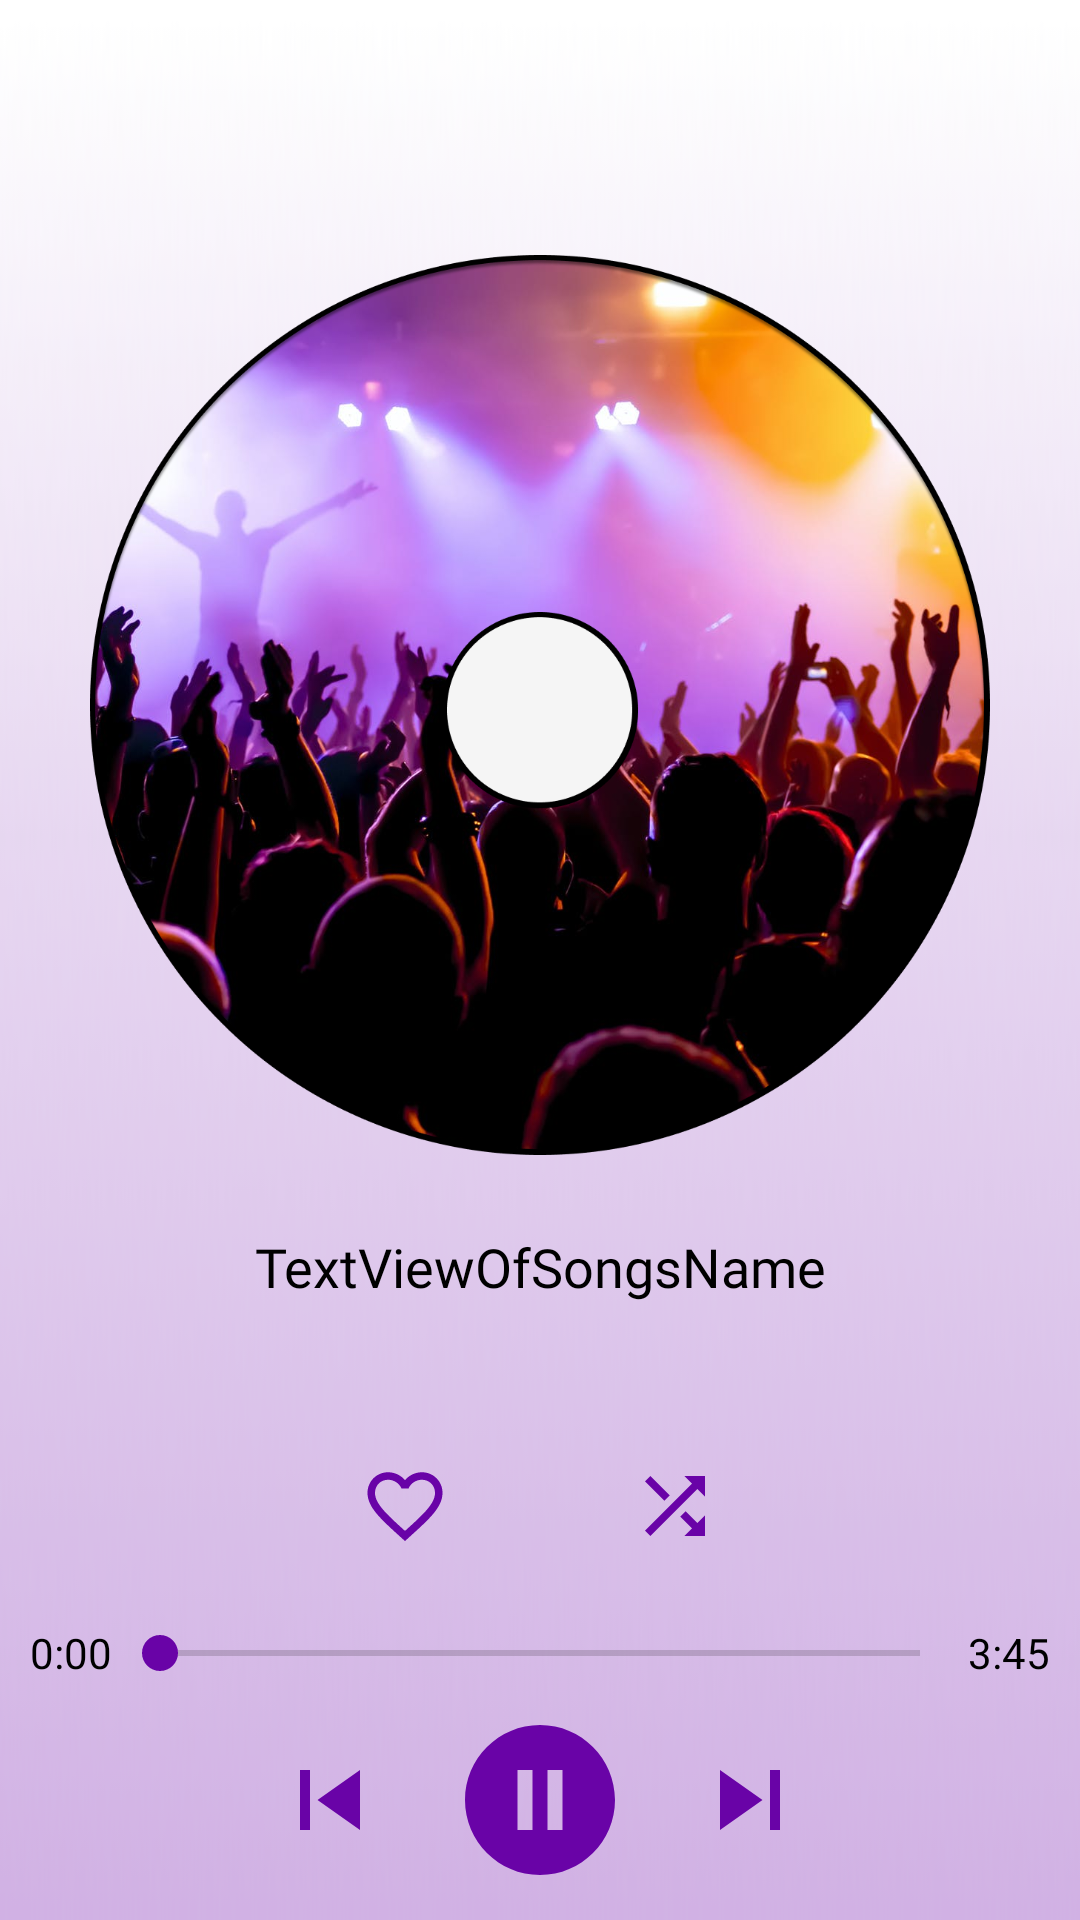

Named icons in this screenshot (1080 × 1920) and their centers, point (x, y):
favorite border: point (405, 1506)
pause circle: point (540, 1800)
shuffle: point (675, 1506)
skip next: point (750, 1800)
skip previous: point (330, 1800)
